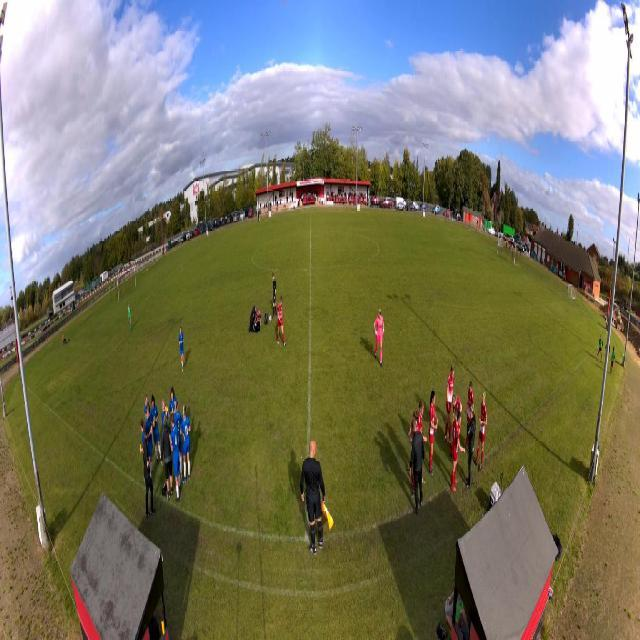ball: (269, 313, 272, 323)
player: (450, 408, 465, 492), (169, 417, 182, 503), (181, 405, 192, 481), (150, 393, 161, 462), (429, 387, 437, 476), (477, 393, 486, 471), (446, 362, 454, 446), (373, 308, 384, 366), (452, 391, 463, 446), (150, 401, 161, 453), (277, 295, 286, 349), (408, 410, 419, 450), (466, 383, 473, 445), (173, 400, 182, 448), (139, 419, 148, 461), (179, 322, 185, 372), (143, 408, 151, 440), (169, 386, 176, 421), (419, 401, 425, 441), (272, 271, 277, 318), (127, 304, 132, 331), (143, 389, 149, 407), (257, 308, 262, 324)
